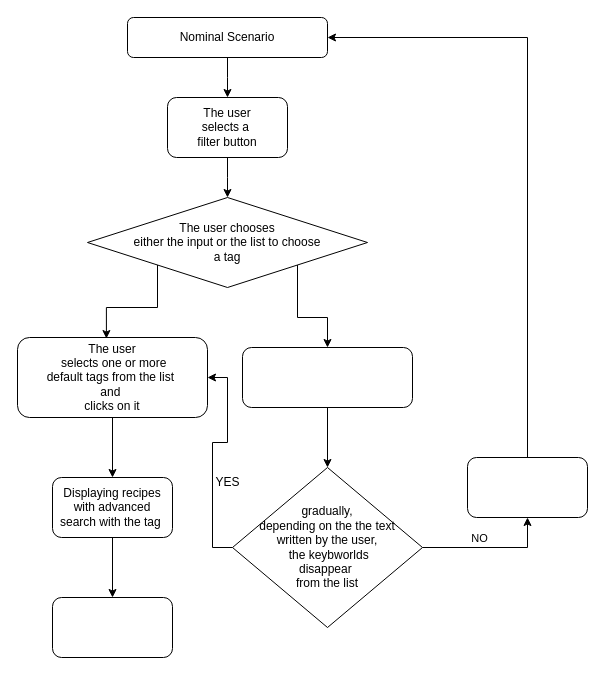
Some shapes in this 605 by 675 pixel diagram are drawn without their labels. Here are the shapes that lost their labels. From the top down, the box of each, then its label:
(242, 346, 412, 408): The user clicks on the input and writes a keyworld
(466, 456, 588, 518): Error message is displayed "XXX" in the list
(52, 596, 172, 658): The user selects a recipe
